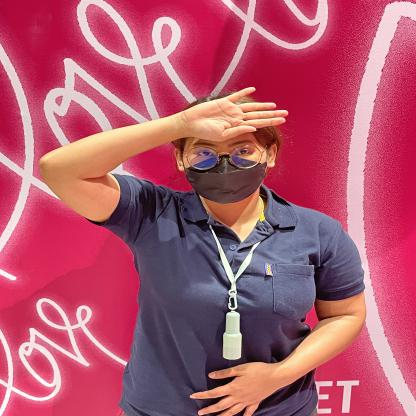Sick: (20, 70, 315, 179)
